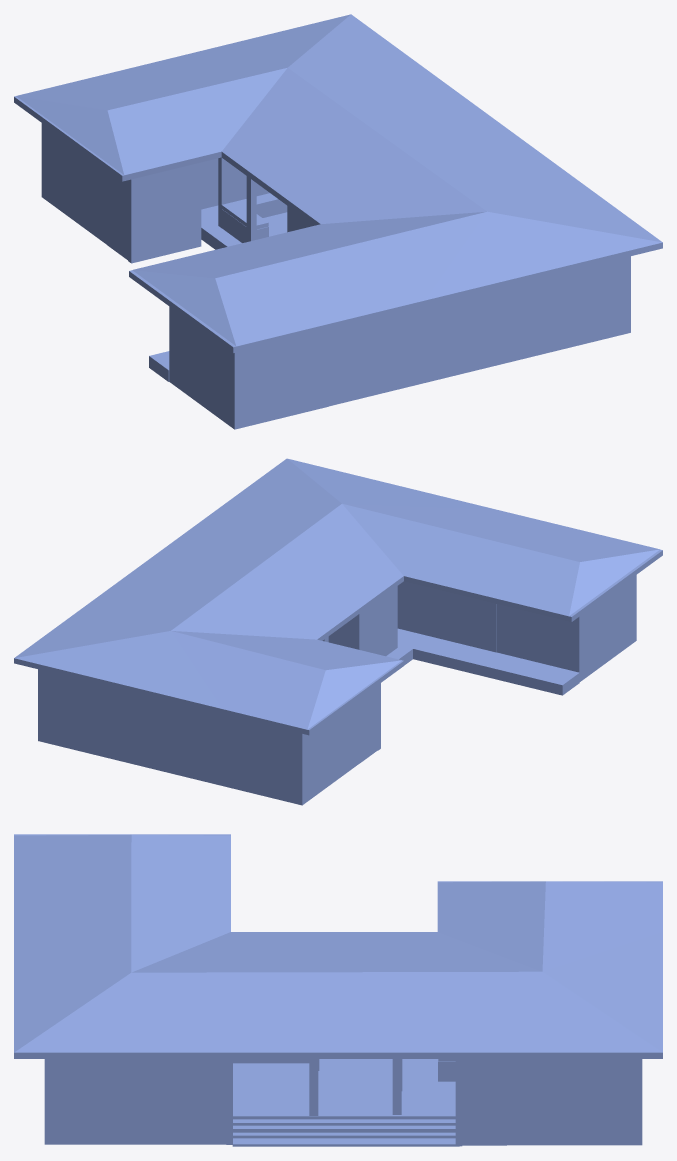
Rendered from CCIT2_LHSFacultyNav.glb.
3 views of the same model, one above another, from view 1: azimuth 30°, elevation 25°; view 2: azimuth 150°, elevation 25°; view 3: azimuth 270°, elevation 25° (orthographic). The views are drawn at different scales.
Parts seen in each view (by area): view 1: Cube.002; view 2: Cube.002; view 3: Cube.002.
Boxes of the visible parts, left/top/right/bottom form: Cube.002: left=14, top=14, right=662, bottom=429; Cube.002: left=14, top=458, right=662, bottom=805; Cube.002: left=14, top=834, right=662, bottom=1146.
Size of the model in its own units: 22.75 by 5.93 by 28.6.
